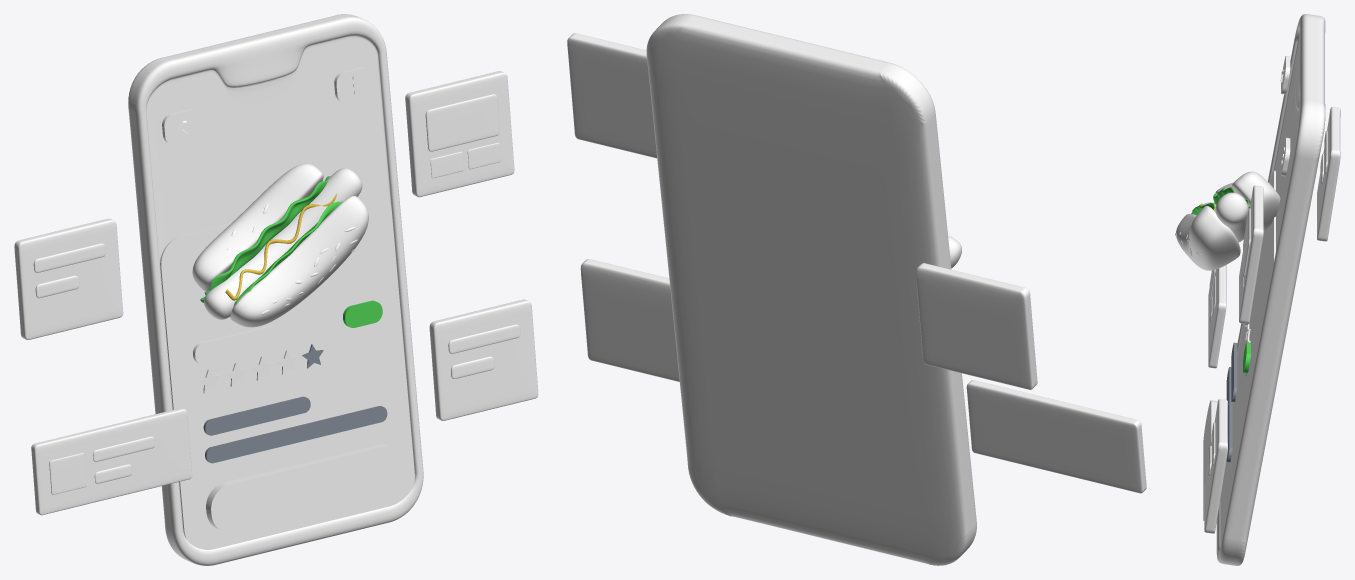
Rendered from food-app-3d-animated-icon-644230899952.glb.
The picture shows the model from 3 angles, left to right: view 1: azimuth 30°, elevation 25°; view 2: azimuth 150°, elevation 25°; view 3: azimuth 270°, elevation 25°; orthographic projection. The views are drawn at different scales.
Parts seen in each view (by area): view 1: Cube, Cube.001, Cube.002, Cube.038, Cube.045, Cube.037, Cube.040, Cube.030, Cube.032, Cube.031, Cube.006, Cube.036 (+14 smaller); view 2: Cube, Cube.038, Cube.037, Cube.045, Cube.040; view 3: Cube, Cube.001, Cube.030, Cube.037, Cube.045, Cube.040, Cube.038, Cube.032, Cube.031, Cube.002, Cube.006, Cube.005 (+3 smaller).
Boxes of the visible parts, x1,y1,x2,y2 form: Cube: (128,14,423,565); Cube.001: (160,190,414,549); Cube.002: (206,444,405,532); Cube.038: (31,408,192,515); Cube.045: (429,299,538,420); Cube.037: (14,218,123,339); Cube.040: (405,71,514,197); Cube.030: (230,195,368,327); Cube.032: (192,163,323,291); Cube.031: (204,168,362,319); Cube.006: (205,406,387,463); Cube.036: (425,94,499,151); Cube: (646,14,976,565); Cube.038: (966,380,1146,493); Cube.037: (916,263,1037,389); Cube.045: (580,259,679,381); Cube.040: (567,33,657,158); Cube: (1216,14,1325,565); Cube.001: (1220,170,1275,545); Cube.030: (1176,206,1240,270); Cube.037: (1317,107,1340,241); Cube.045: (1204,399,1228,533); Cube.040: (1239,185,1263,323); Cube.038: (1208,265,1226,368); Cube.032: (1215,171,1280,231); Cube.031: (1203,192,1248,242); Cube.002: (1203,400,1217,520); Cube.006: (1226,367,1232,462); Cube.005: (1231,342,1237,402).
Bounding box in the file's own units: 3.96 × 3.6 × 1.17.
